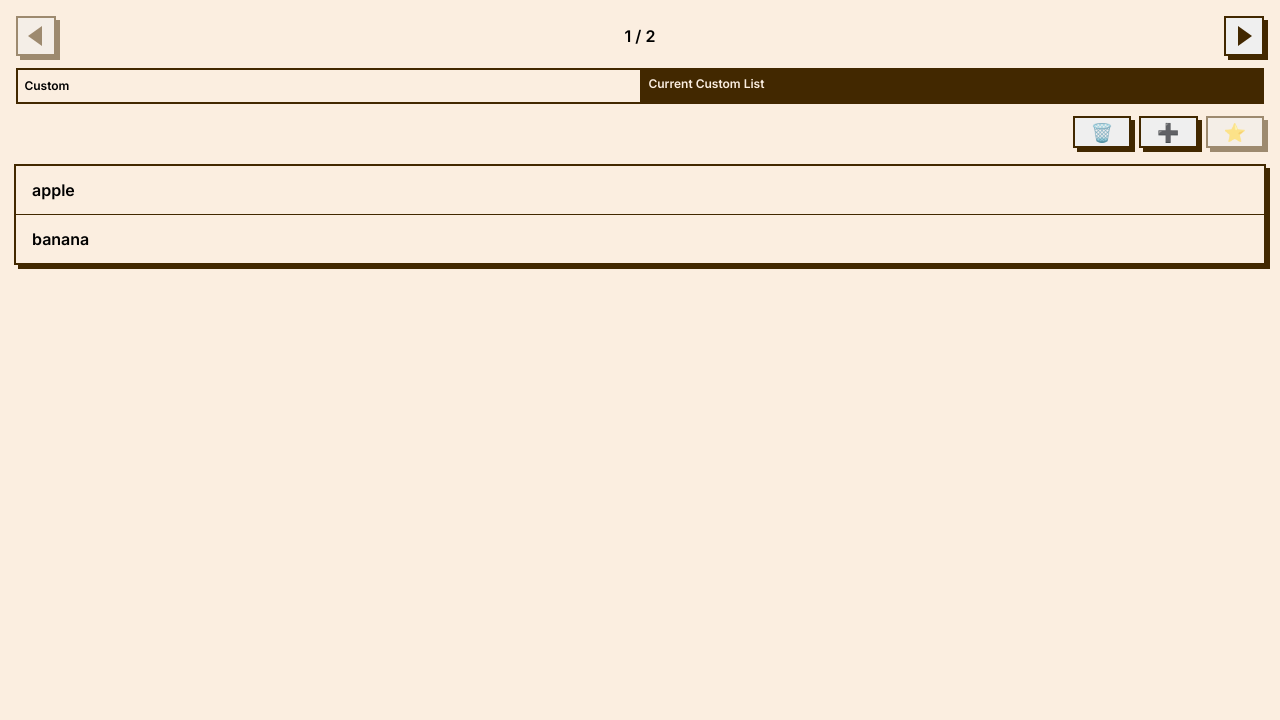
Test: WordListsContent › create list form › shows create button from action row
The image size is (1280, 720).
Click the button "➕" at (1168, 132), box [1139,116,1198,148]
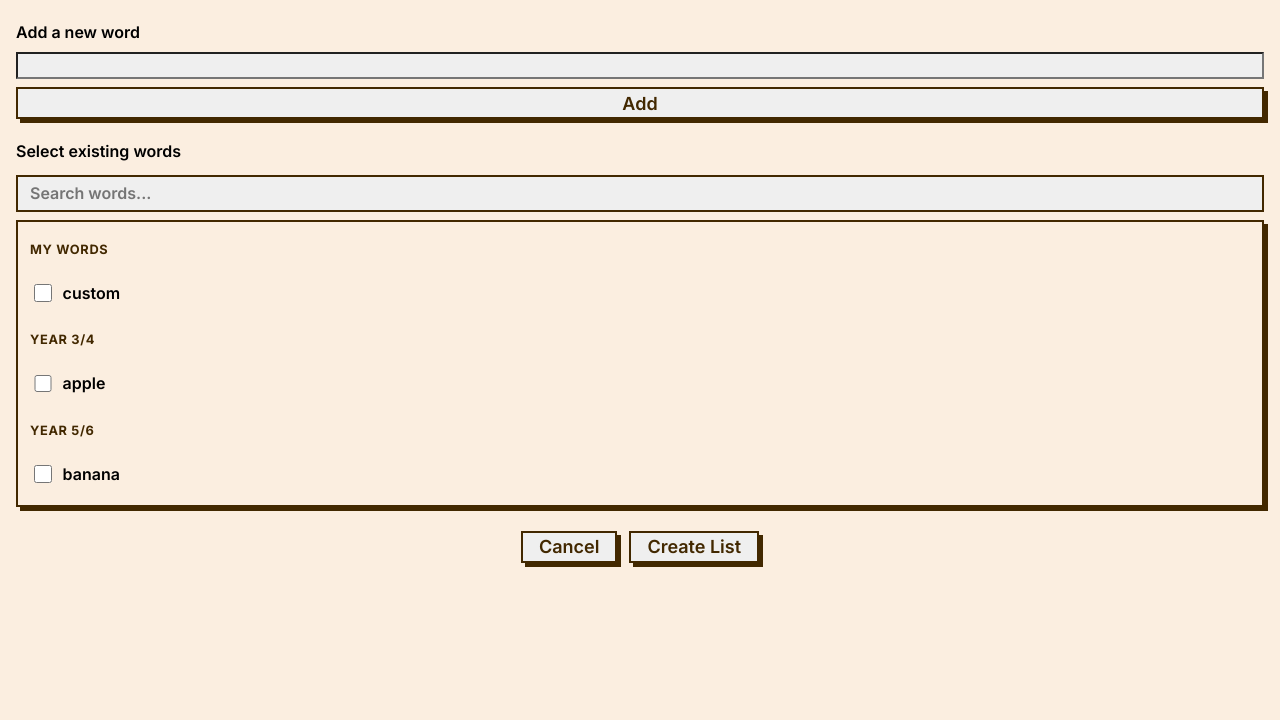
Result: the text "Add a new word" is shown at [16,16,1264,79]
